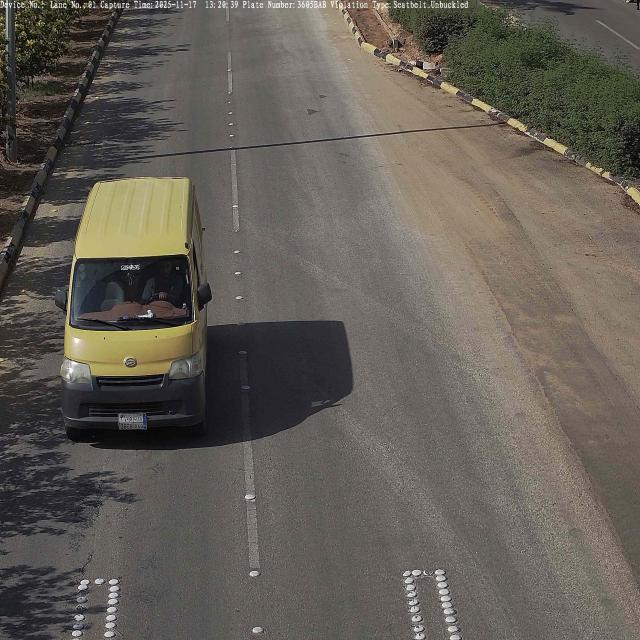person_without_seatbelt: (142, 261, 184, 302)
